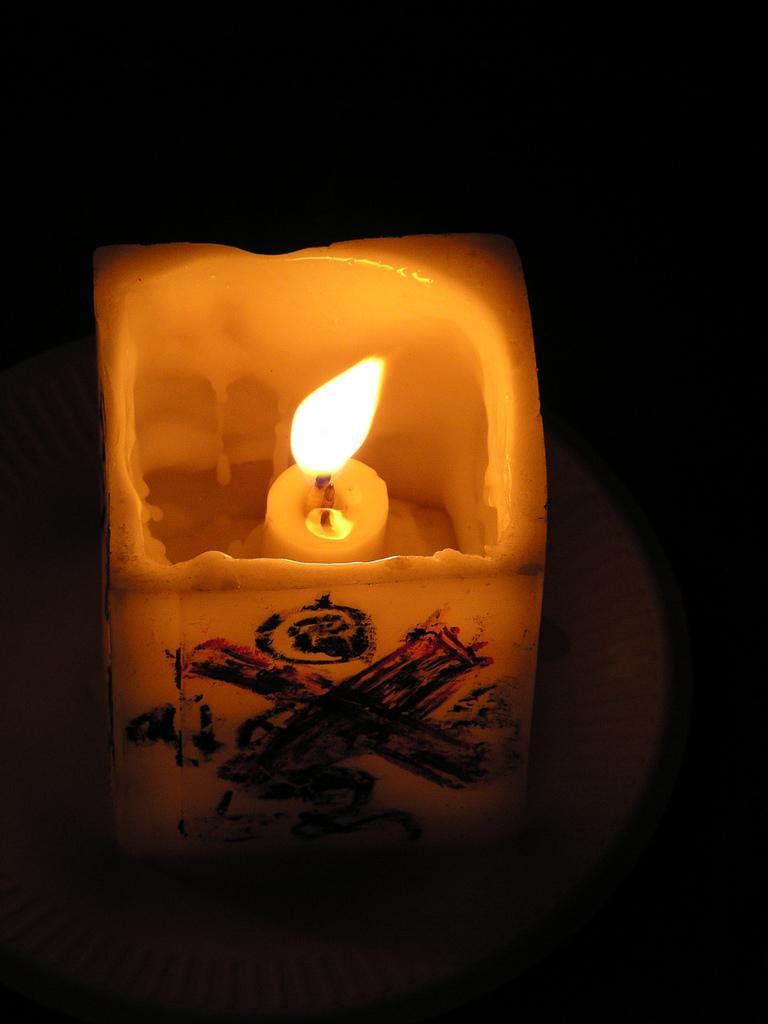fire: (295, 382, 360, 475)
